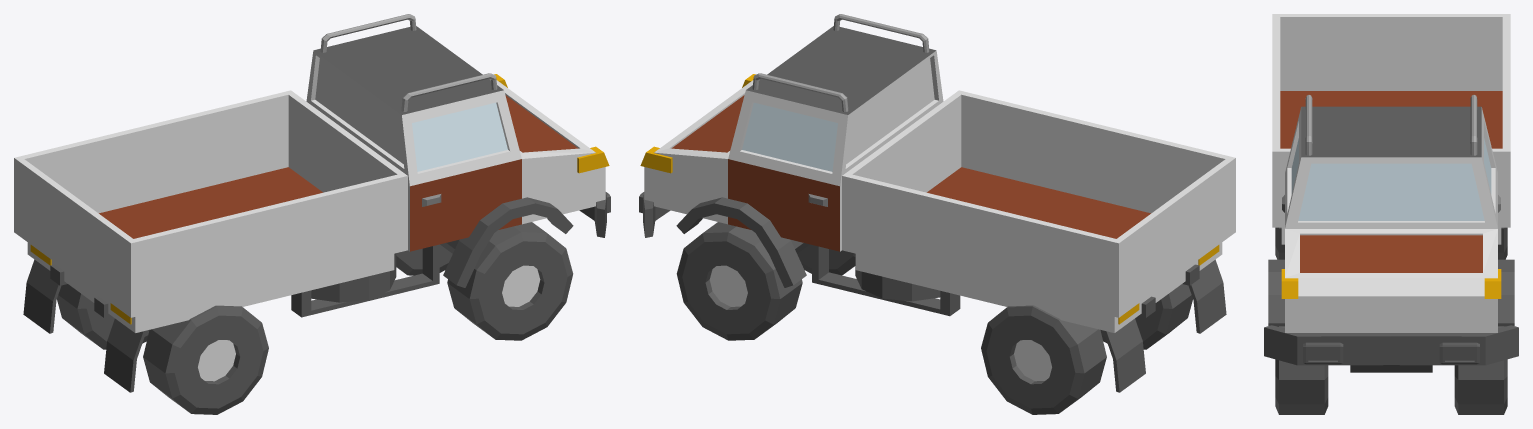
Rendered from car_scout.glb.
3 views of the same model, side by side, from view 1: azimuth 30°, elevation 25°; view 2: azimuth 150°, elevation 25°; view 3: azimuth 270°, elevation 25° (orthographic).
Visible parts, largest first — view 1: hull, wheels; view 2: hull, wheels; view 3: hull, wheels.
Boxes of the visible parts, left/top/right/bottom form: hull: left=14, top=14, right=610, bottom=332; wheels: left=23, top=197, right=573, bottom=414; hull: left=639, top=14, right=1235, bottom=332; wheels: left=676, top=197, right=1226, bottom=414; hull: left=1264, top=14, right=1518, bottom=372; wheels: left=1268, top=227, right=1514, bottom=414.
Bounding box in the file's own units: 4.43 × 2.23 × 1.94.
